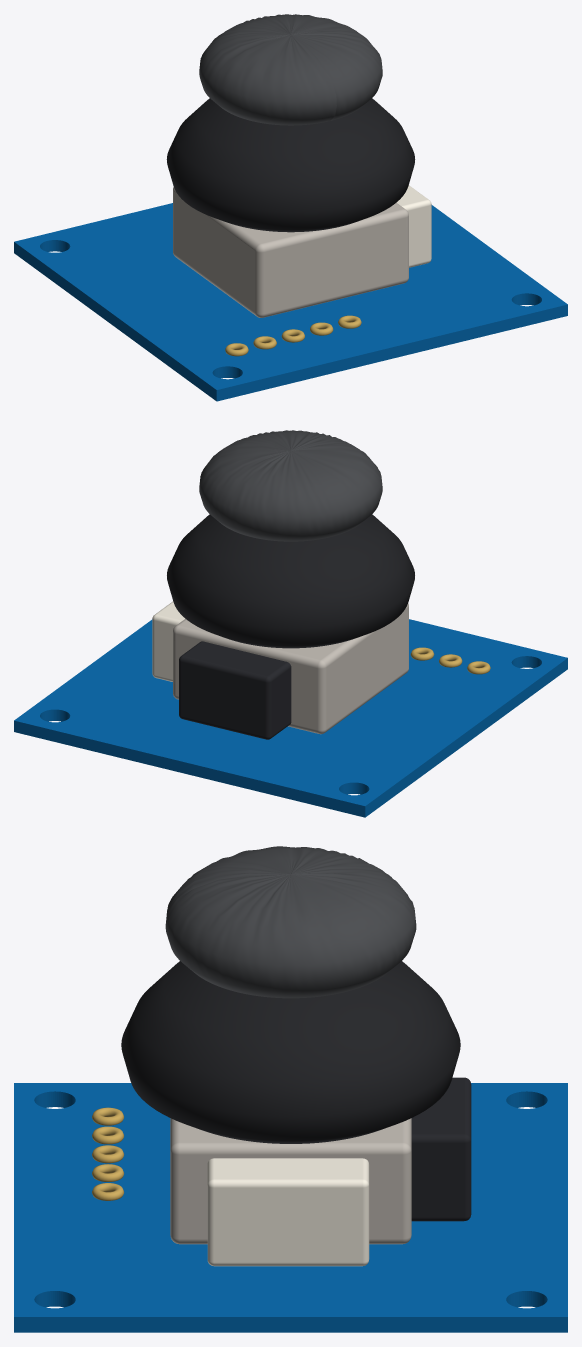
File: components-08.glb
The picture shows the model from 3 angles, top to bottom: view 1: azimuth 30°, elevation 25°; view 2: azimuth 150°, elevation 25°; view 3: azimuth 270°, elevation 25°; orthographic projection. The views are drawn at different scales.
Parts seen in each view (by area): view 1: board, boot, assembly, cap, pads; view 2: board, boot, assembly, cap, pads; view 3: board, boot, assembly, cap, pads.
Part boxes in pixels (x1,y1,x2,y2): board: (14, 203, 567, 401); boot: (166, 98, 415, 232); assembly: (173, 185, 431, 317); cap: (199, 14, 382, 125); pads: (225, 315, 361, 356); board: (14, 619, 567, 817); boot: (167, 514, 414, 648); assembly: (152, 601, 408, 739); cap: (199, 430, 382, 541); pads: (410, 647, 490, 674); board: (14, 1083, 567, 1332); boot: (121, 961, 460, 1143); assembly: (170, 1077, 471, 1266); cap: (165, 846, 416, 998); pads: (92, 1107, 124, 1200).
Bounding box in the file's own units: 2.09 × 1.42 × 2.09.
